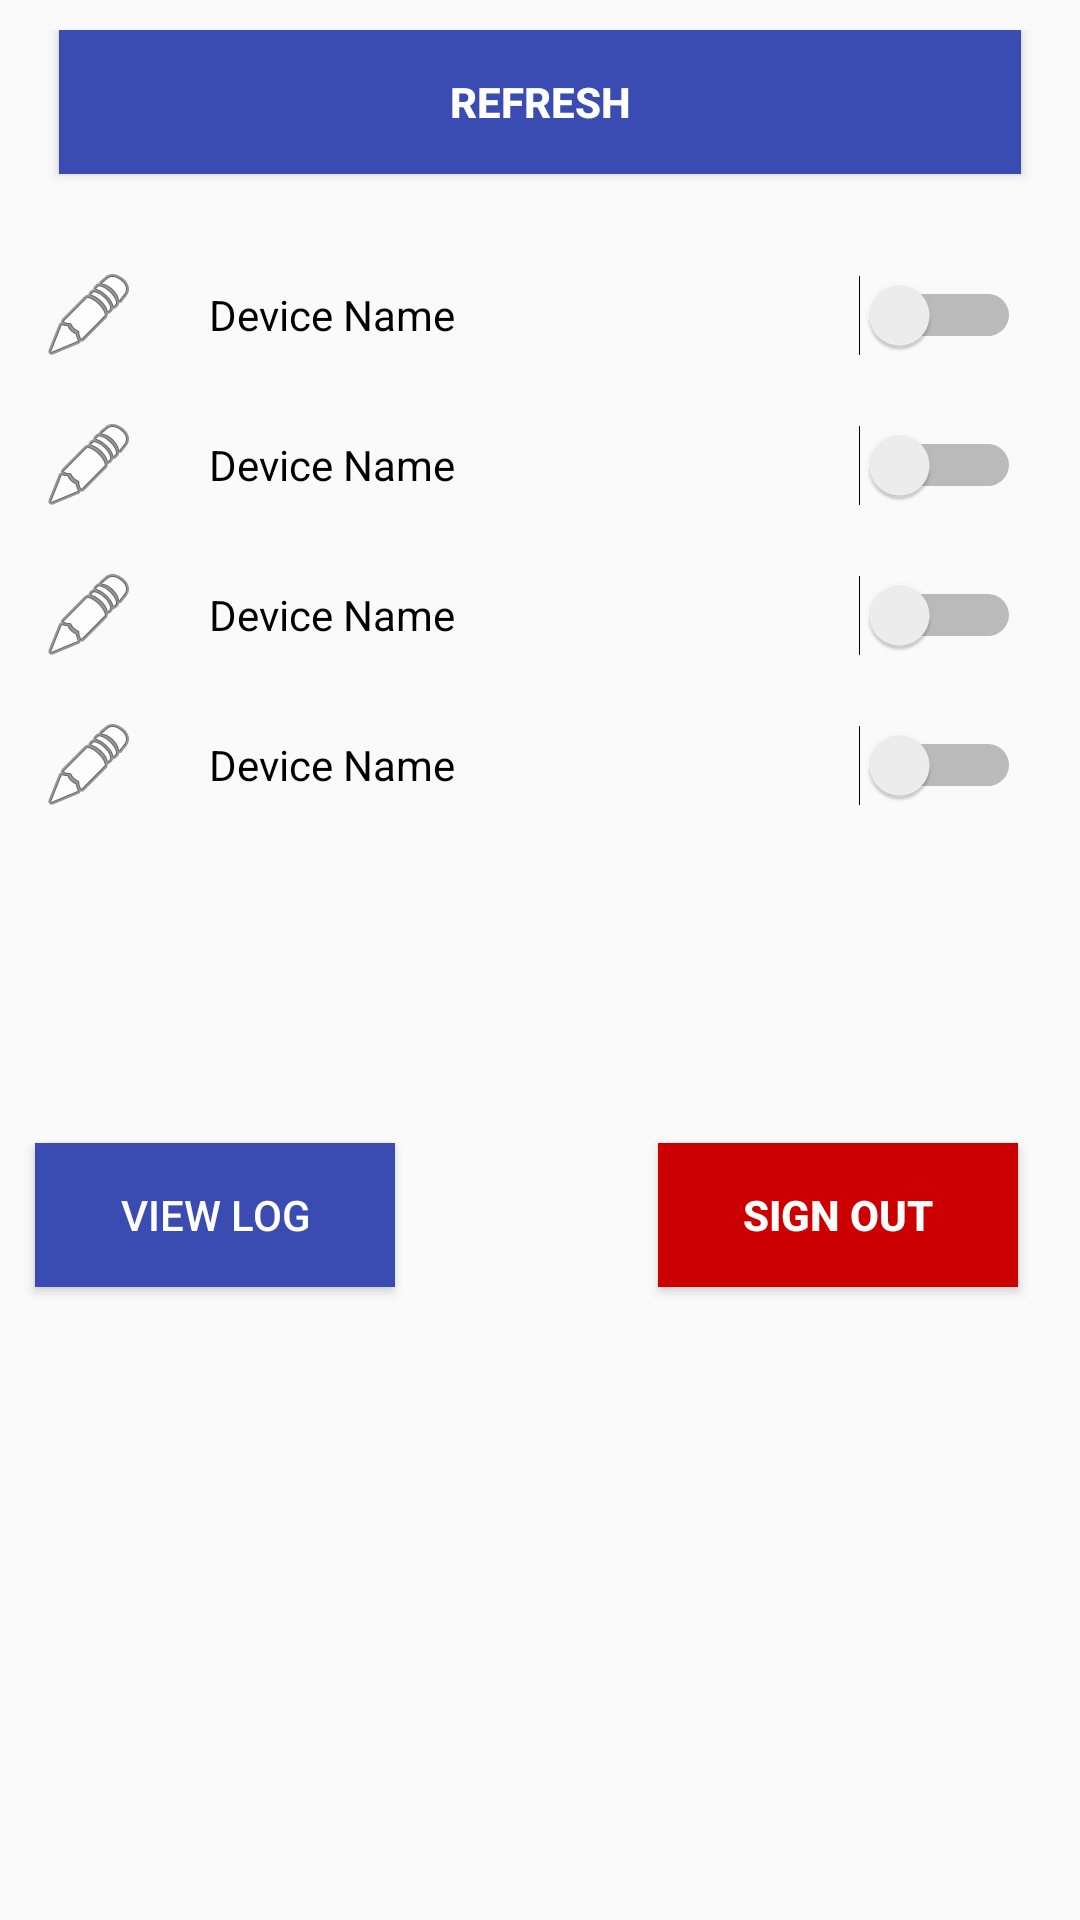

Screen size 1080x1920. Icon name, then its center in pixels as [x,y]:
edit: [88,314], [88,464], [88,614], [88,764]
